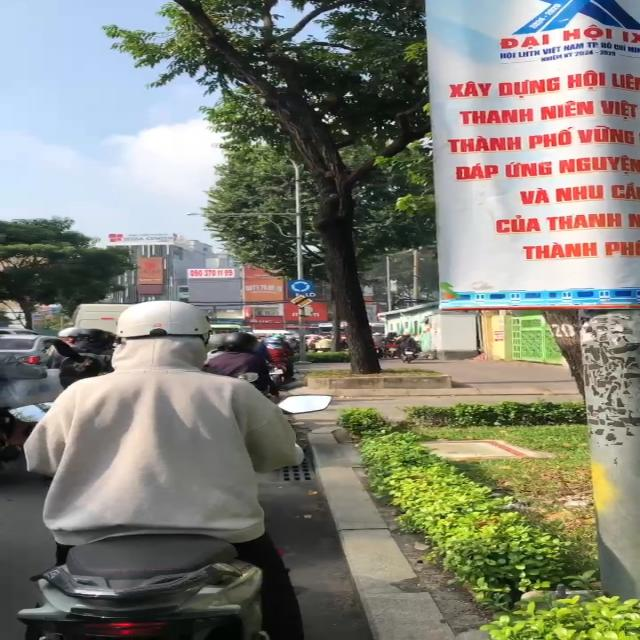Bien bao noi giao nhau chay theo vong xuyen: (285, 277, 317, 293)
